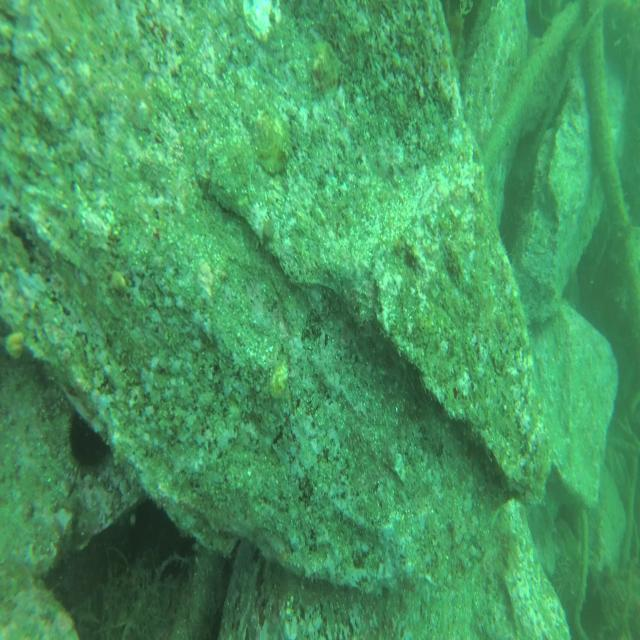echinus: (62, 407, 113, 476)
